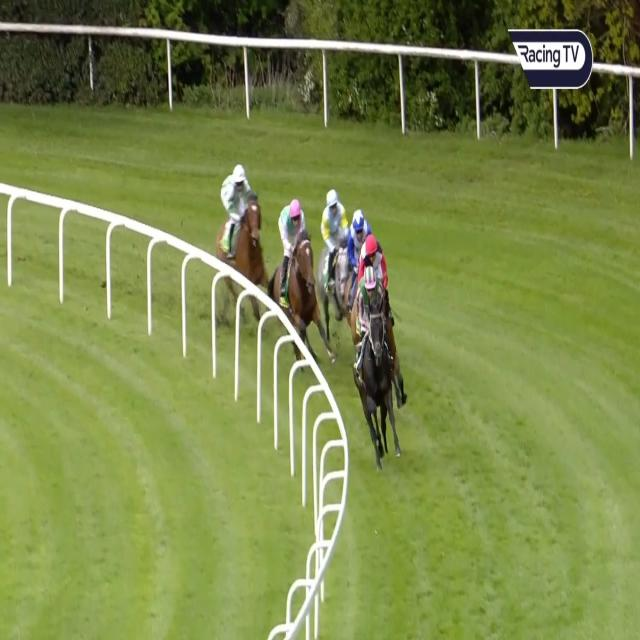horses-racing: (349, 266, 396, 467), (275, 194, 322, 363), (217, 163, 266, 313), (318, 188, 347, 348), (349, 208, 369, 289), (360, 237, 387, 288)
